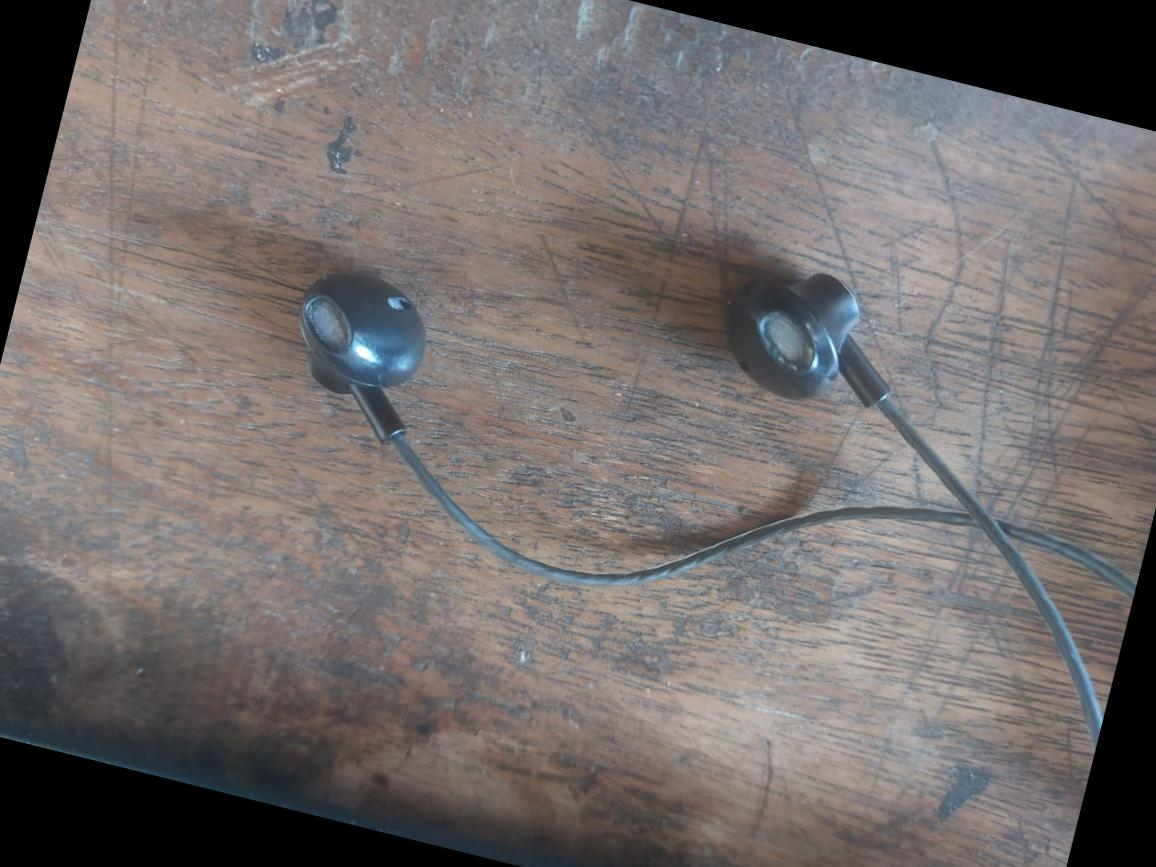Earphone: (703, 240, 923, 429)
